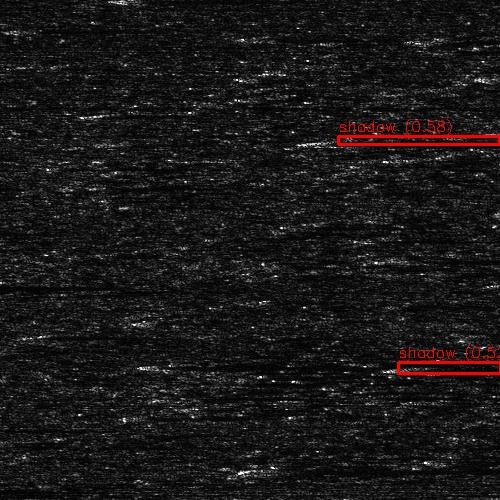rock: (369, 34, 474, 43), (293, 135, 366, 146), (402, 456, 475, 465), (402, 396, 485, 403), (380, 363, 443, 372), (201, 33, 264, 42), (445, 341, 500, 350), (468, 277, 500, 290), (358, 256, 421, 261), (478, 67, 500, 80), (66, 0, 149, 3), (125, 361, 156, 368), (82, 110, 123, 115), (65, 184, 106, 189), (28, 332, 69, 337), (103, 414, 144, 419), (282, 467, 335, 470), (488, 304, 500, 309)
shadow: (141, 361, 500, 368), (330, 135, 500, 146), (233, 33, 374, 42), (0, 487, 138, 494), (0, 280, 89, 289), (412, 363, 500, 372), (422, 34, 500, 43), (103, 110, 230, 115), (86, 184, 211, 189), (49, 332, 170, 337), (309, 467, 500, 470), (390, 256, 500, 261), (439, 456, 500, 465), (108, 0, 244, 3), (444, 396, 500, 403), (124, 414, 185, 419), (482, 341, 500, 350)
